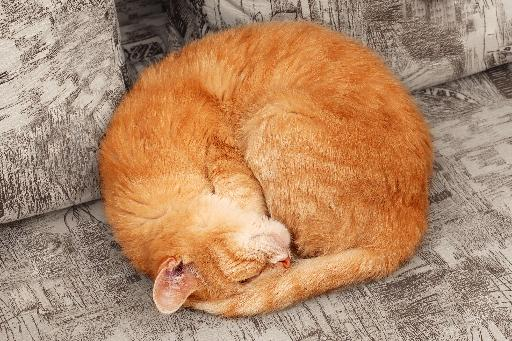cat_sleeping: (99, 21, 433, 317)
